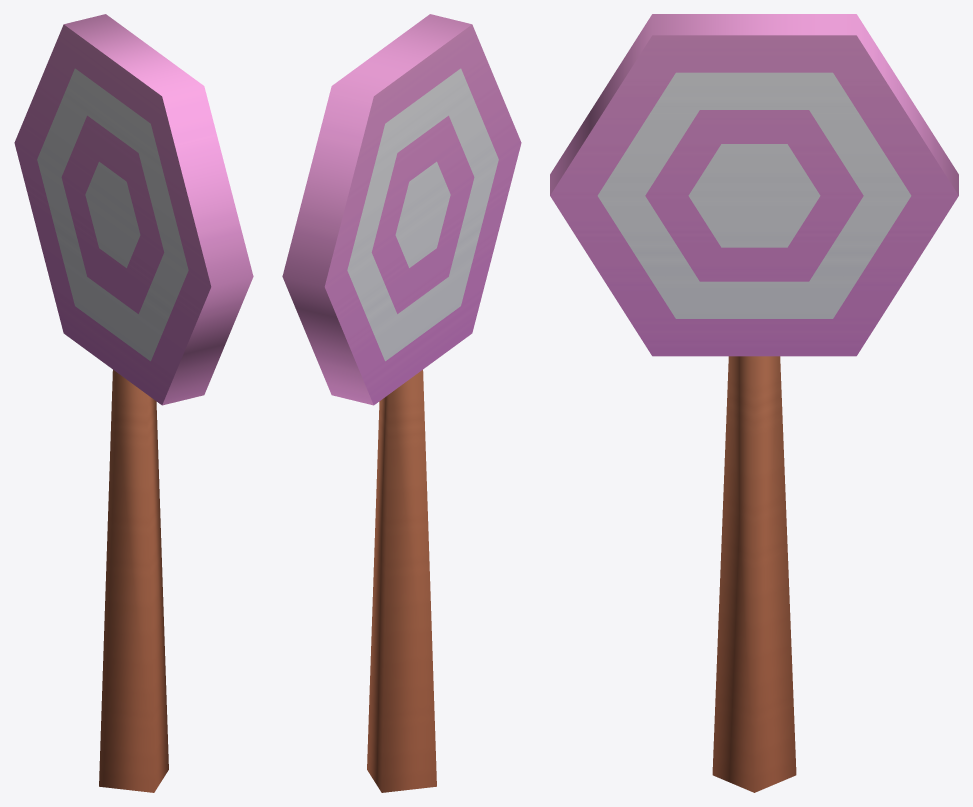
The model's file is lollypop.obj.
3 renders of one model, left to right at view 1: azimuth 30°, elevation 25°; view 2: azimuth 150°, elevation 25°; view 3: azimuth 270°, elevation 25°, orthographic. The views are drawn at different scales.
Visible parts, largest first — view 1: lollypop; view 2: lollypop; view 3: lollypop.
Part boxes in pixels (<box>): lollypop: <box>14,14,253,792</box>; lollypop: <box>282,14,521,792</box>; lollypop: <box>550,14,958,792</box>.
Bounding box in the file's own units: 0.0385 × 0.3798 × 0.1875.
Materials: 1 (1 with a texture image).
